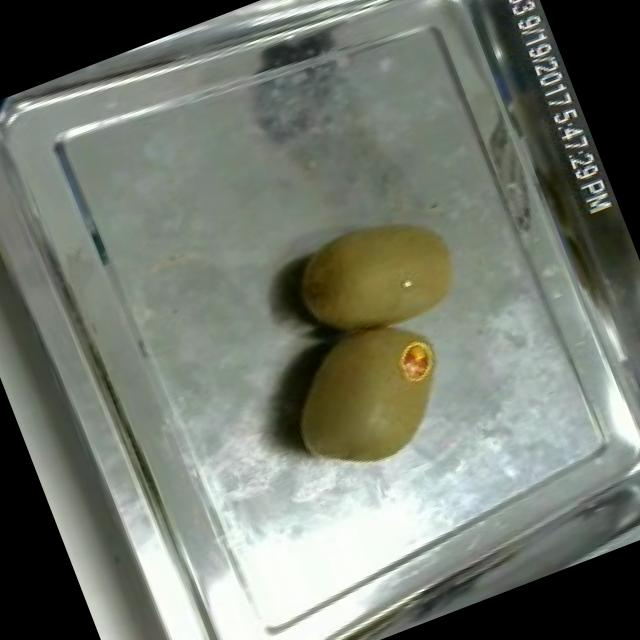Fruit: (258, 296, 476, 499), (274, 192, 482, 368)
